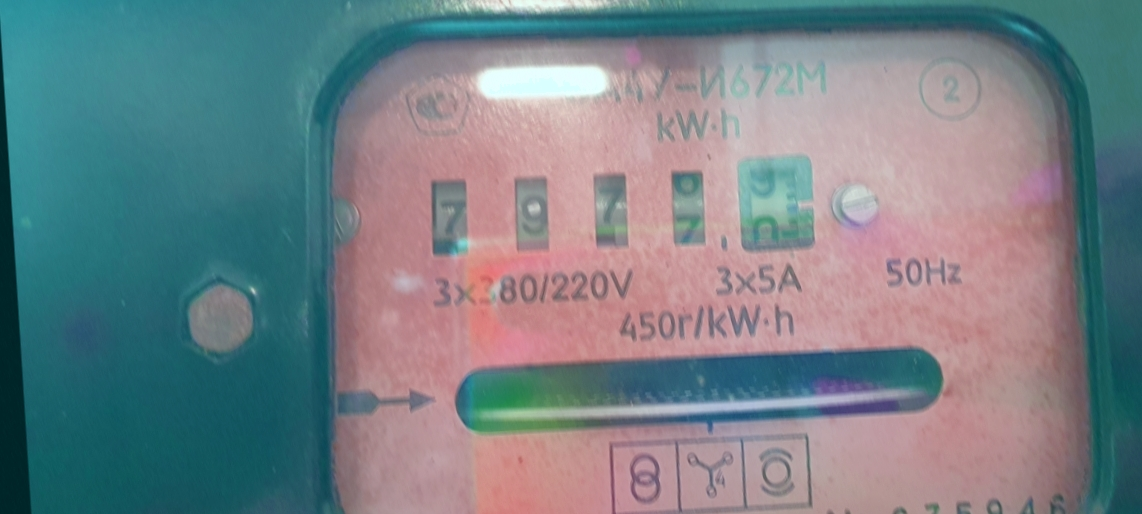0: (745, 208, 780, 248)
7: (591, 181, 624, 226), (433, 195, 466, 239), (669, 209, 702, 247)
9: (512, 190, 549, 237), (743, 161, 776, 198)
screen: (404, 132, 839, 294)
